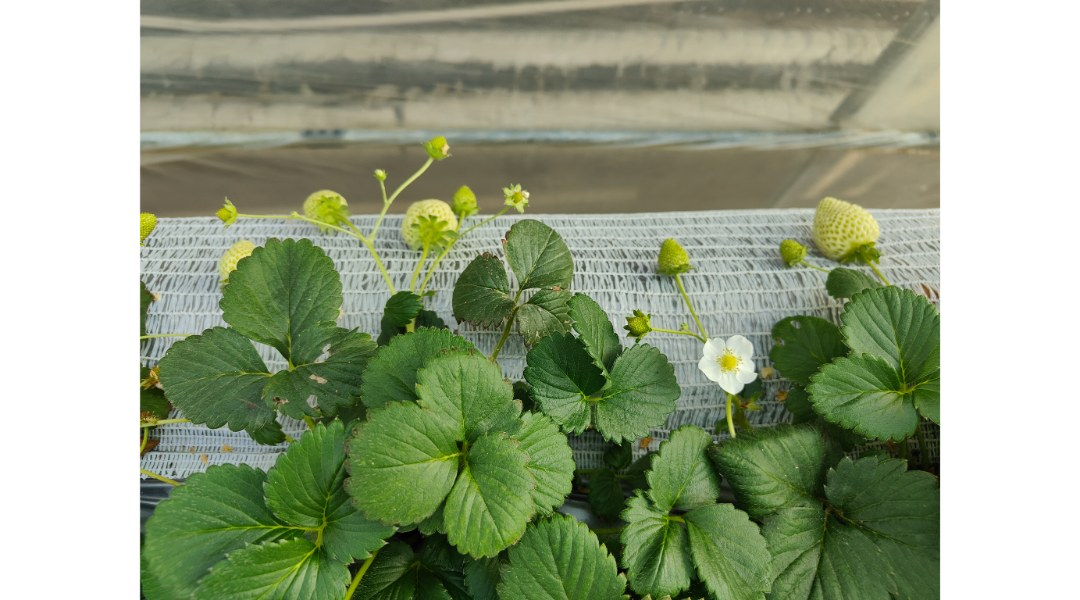flower: (795, 186, 892, 271), (696, 332, 762, 398), (396, 193, 455, 261), (300, 179, 352, 234), (647, 224, 693, 285), (489, 173, 535, 214), (772, 227, 805, 277), (618, 308, 655, 343), (447, 181, 482, 214), (425, 132, 454, 166)
strain: (671, 274, 706, 333), (390, 164, 427, 205), (367, 249, 397, 296), (722, 389, 739, 442)
